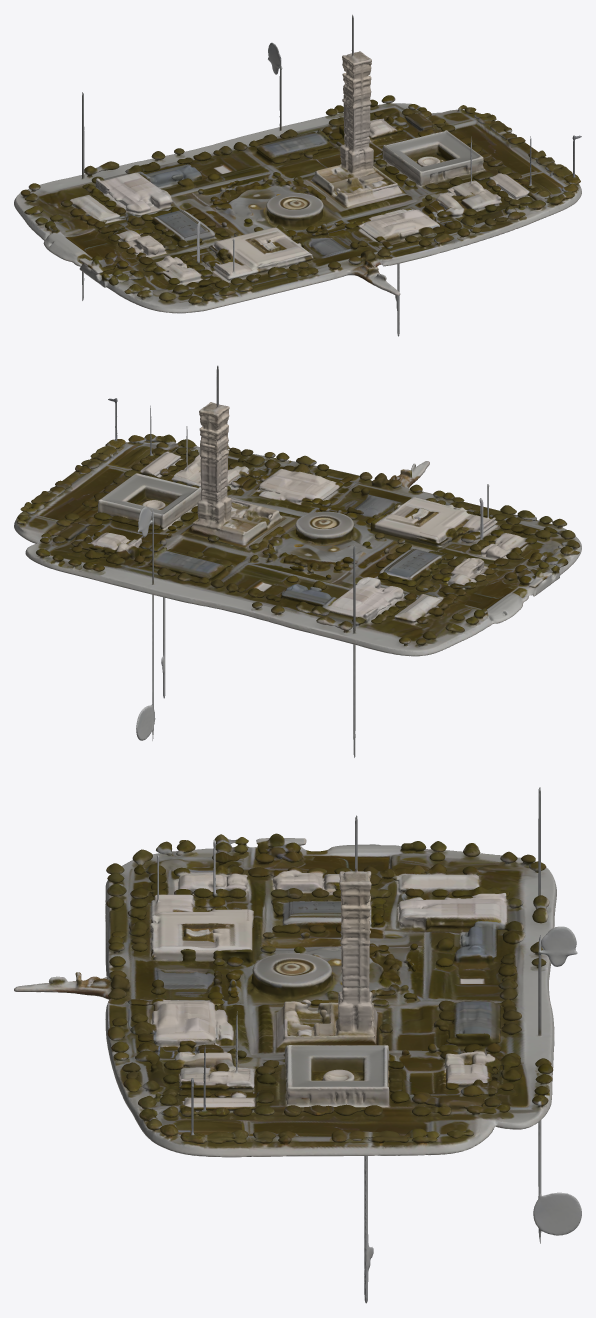
File: campus.glb
The picture shows the model from 3 angles, top to bottom: view 1: azimuth 30°, elevation 25°; view 2: azimuth 150°, elevation 25°; view 3: azimuth 270°, elevation 25°; orthographic projection. The views are drawn at different scales.
Visible parts, largest first — view 1: tripo_node_fe201d29-8a19-4b68-a72a-a3c567510815; view 2: tripo_node_fe201d29-8a19-4b68-a72a-a3c567510815; view 3: tripo_node_fe201d29-8a19-4b68-a72a-a3c567510815.
Part boxes in pixels (x1,y1,x2,y2): tripo_node_fe201d29-8a19-4b68-a72a-a3c567510815: (14, 14, 581, 336); tripo_node_fe201d29-8a19-4b68-a72a-a3c567510815: (14, 365, 581, 757); tripo_node_fe201d29-8a19-4b68-a72a-a3c567510815: (14, 787, 581, 1303).
Bounding box in the file's own units: 1 × 0.6912 × 0.7803.
1 material, 1 textured.
